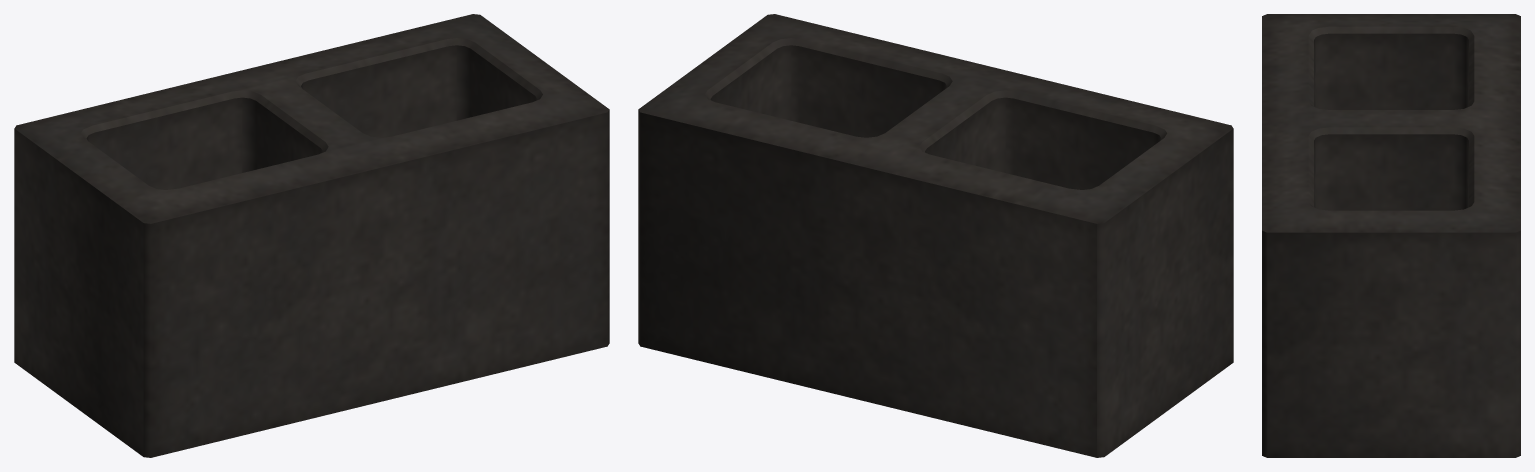
The model's file is concrete_block_1.obj.
3 renders of one model, left to right at view 1: azimuth 30°, elevation 25°; view 2: azimuth 150°, elevation 25°; view 3: azimuth 270°, elevation 25°, orthographic. The views are drawn at different scales.
Visible parts, largest first — view 1: concrete_block_1; view 2: concrete_block_1; view 3: concrete_block_1.
Boxes of the visible parts, x1,y1,x2,y2 form: concrete_block_1: (14, 14, 609, 457); concrete_block_1: (638, 14, 1233, 457); concrete_block_1: (1262, 14, 1520, 457).
Bounding box in the file's own units: 0.432 × 0.216 × 0.216.
